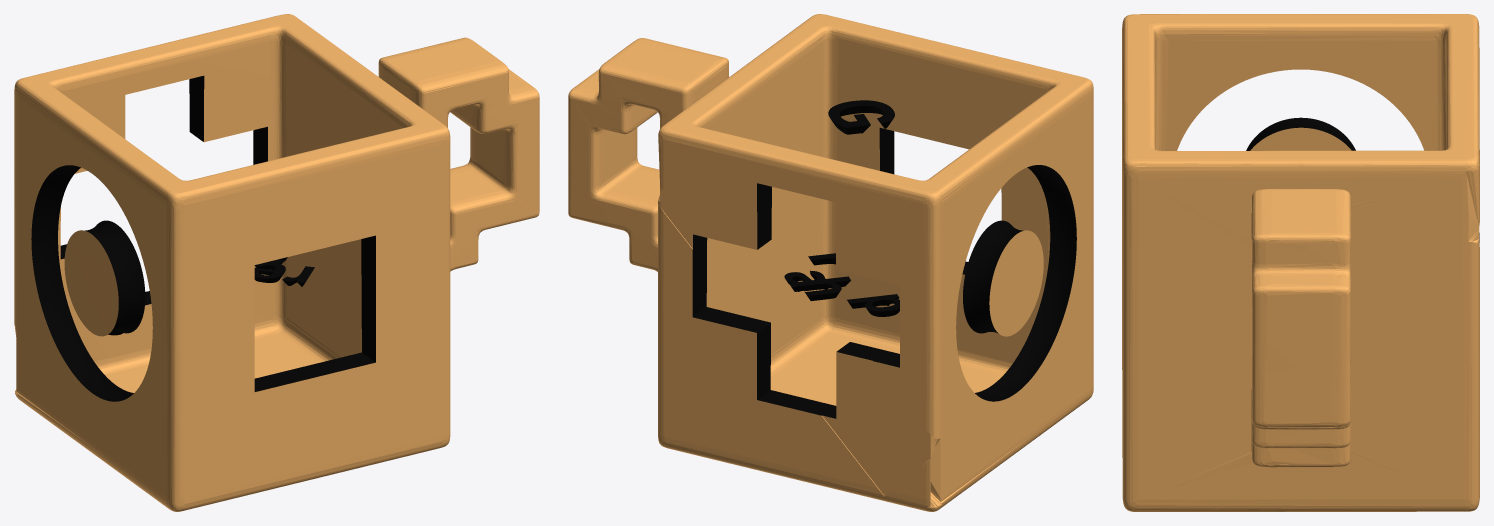
Rendered from Cubic Cup.fbx.
3 views of the same model, side by side, from view 1: azimuth 30°, elevation 25°; view 2: azimuth 150°, elevation 25°; view 3: azimuth 270°, elevation 25° (orthographic). The views are drawn at different scales.
Visible parts, largest first — view 1: Origin; view 2: Origin; view 3: Origin.
Boxes of the visible parts, x1,y1,x2,y2 form: Origin: (14,14,539,511); Origin: (568,14,1093,511); Origin: (1122,14,1479,511).
Size of the model in its own units: 390 by 278 by 256.
